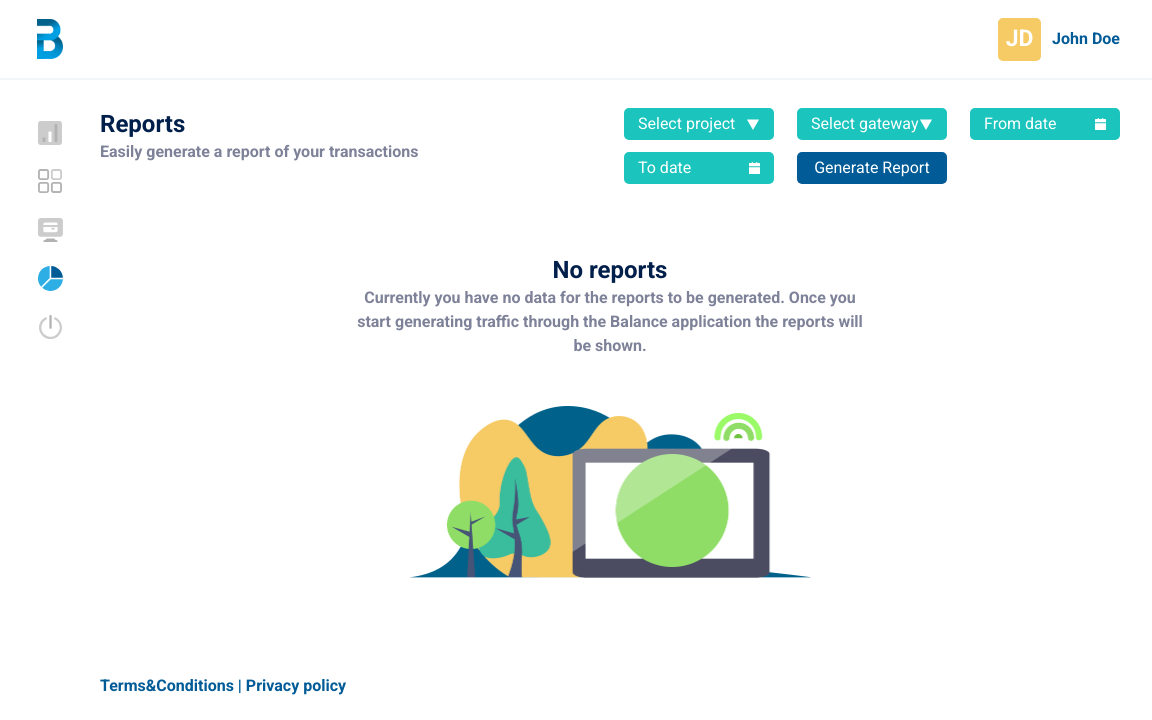
Generate report › allows selection of a project
The width and height of the screenshot is (1152, 720).
Click the button "Select project": point(699, 124) [624,108,774,140]
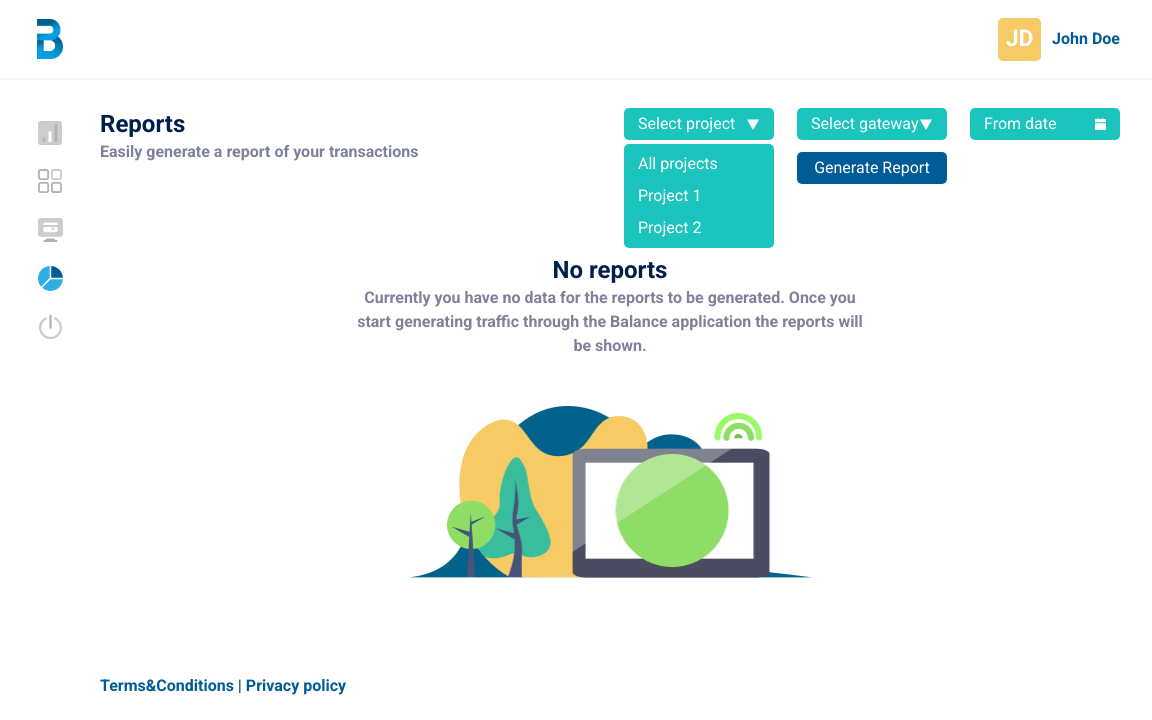
Click the option "Project 1": point(670, 196) [638,186,701,205]
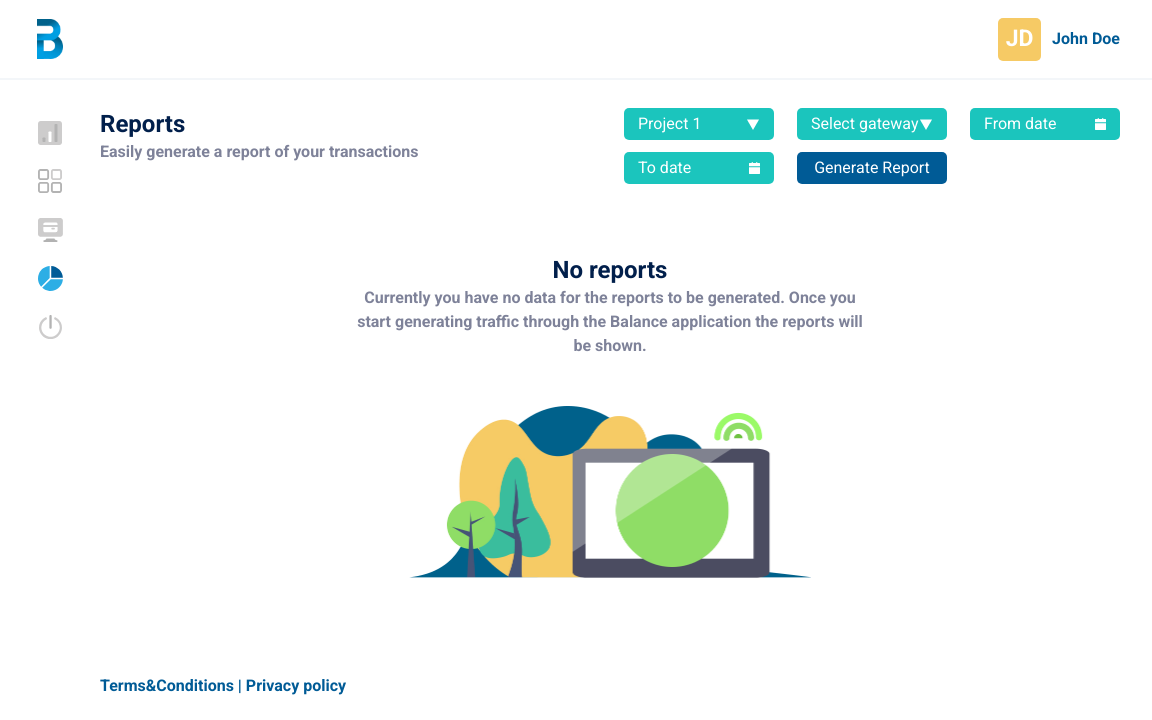
Now the button "Project 1" is shown, box [624,108,774,140]
